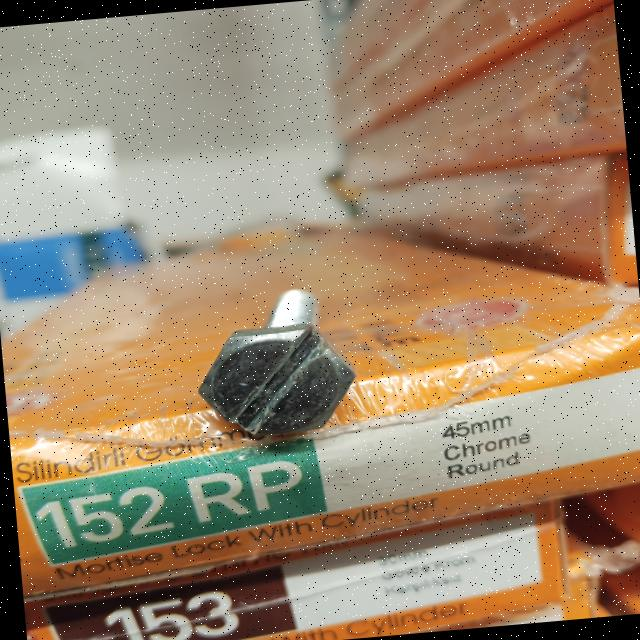Slotted: (192, 318, 360, 448)
